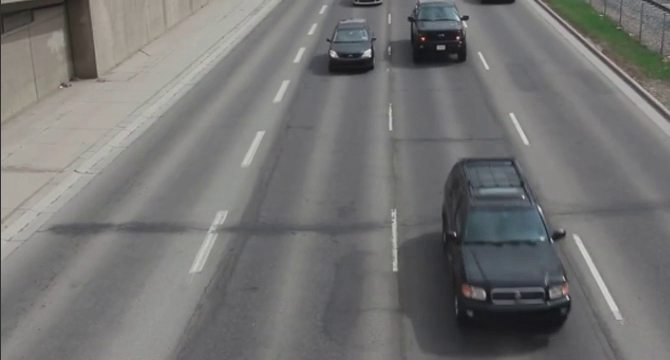car: (437, 152, 571, 346), (406, 1, 467, 66), (329, 17, 378, 72)
